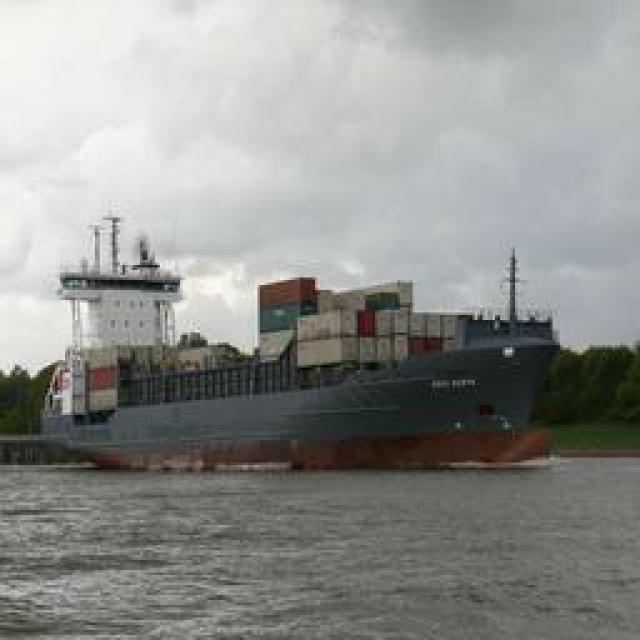Ship: (19, 194, 587, 483)
